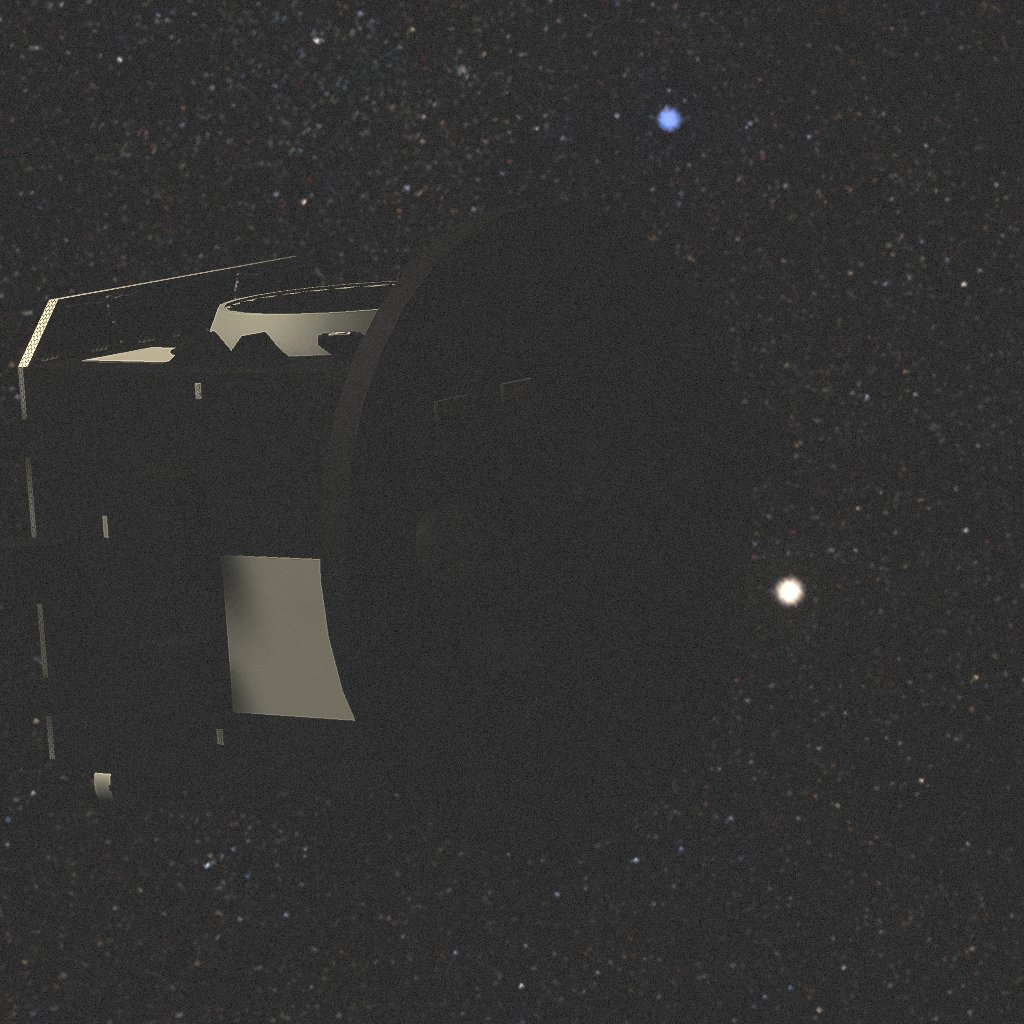proba_3_ocs: (0, 203, 791, 856)
